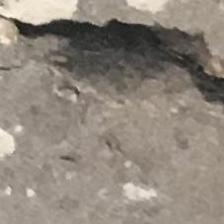Crack: (0, 0, 224, 145)
